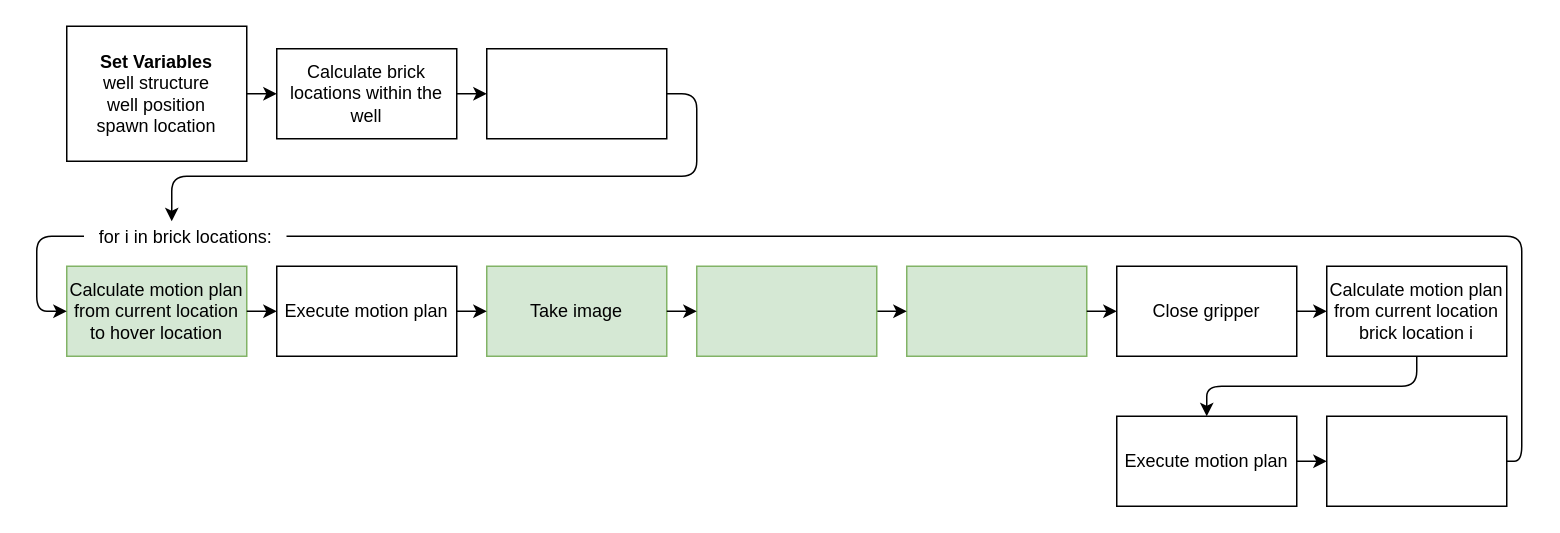
The diagram is 1560 pixels wide and 533 high, and some of its shapes have lost their labels. The shapes that lost their labels are listed below. From the top down, each one's centre as x and y in pixels, then its label:
At [576,93]: "Move arms to starting location".
At [786,310]: "Analyse Image to calculate brick position".
At [996,310]: "Move gripper to exact brick position".
At [1416,460]: "Open grippers".
